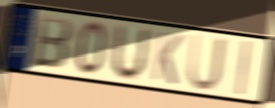0: (75, 19, 109, 77)
B: (31, 13, 75, 72)
I: (235, 39, 252, 98)
K: (150, 29, 185, 87)
U: (107, 22, 152, 82), (186, 32, 228, 93)
